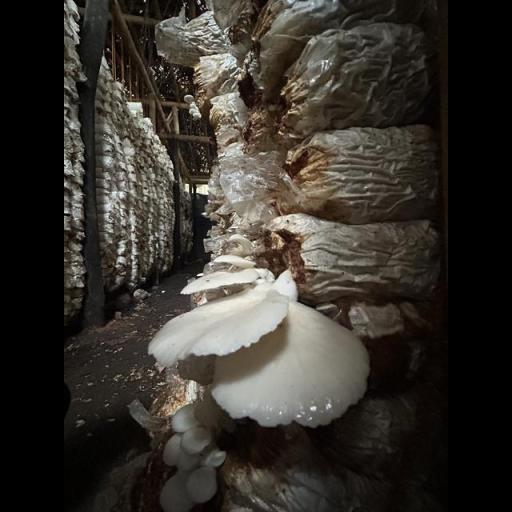White Oyster Mushroom: (136, 248, 374, 512)
